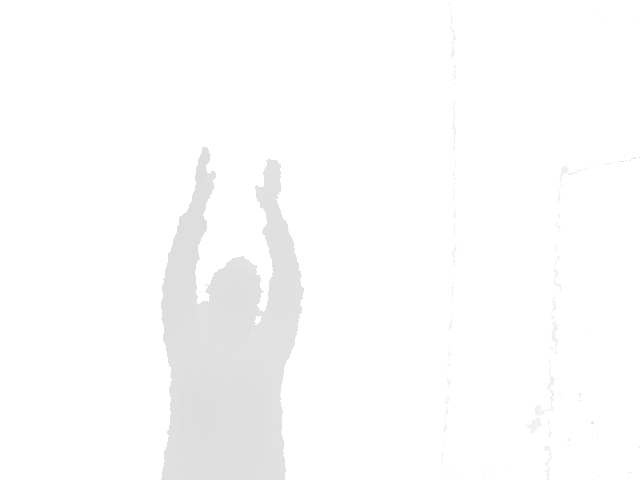hand: (253, 158, 284, 203), (193, 145, 217, 202)
head: (204, 256, 263, 311)
person: (160, 145, 305, 480)
